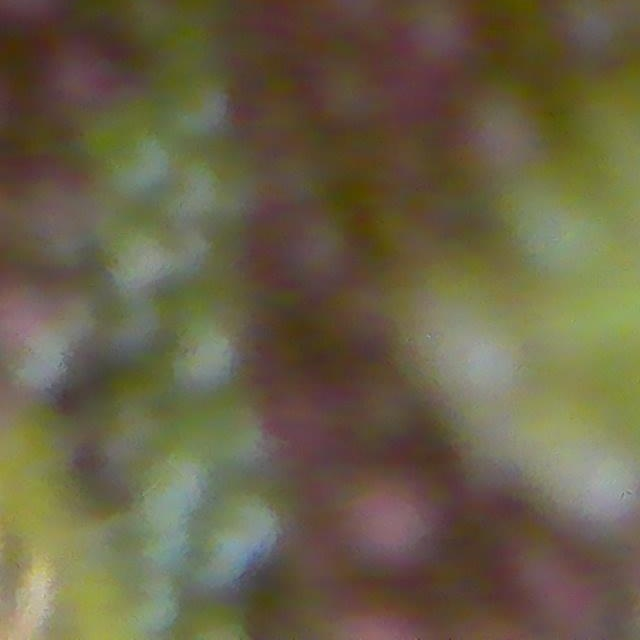SeaGrape: (489, 151, 622, 288), (333, 478, 453, 576), (39, 37, 121, 123), (99, 121, 180, 203), (103, 218, 179, 294), (288, 212, 356, 285), (411, 0, 462, 66)
